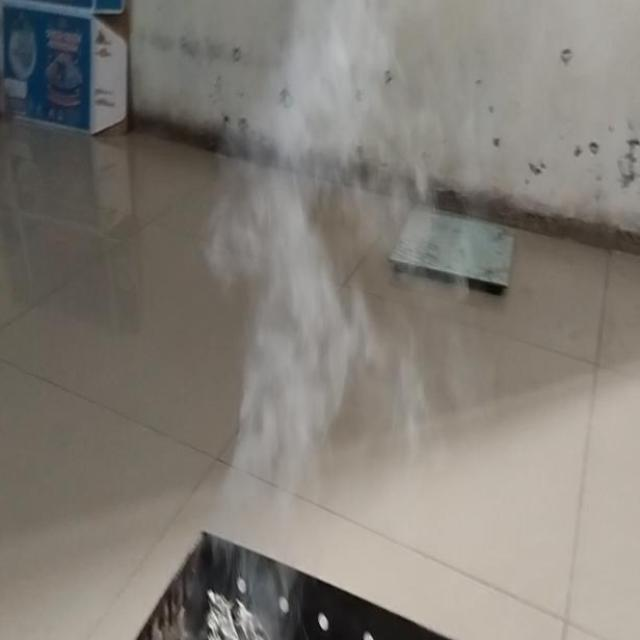fire: (204, 199, 374, 518), (222, 0, 400, 197)
